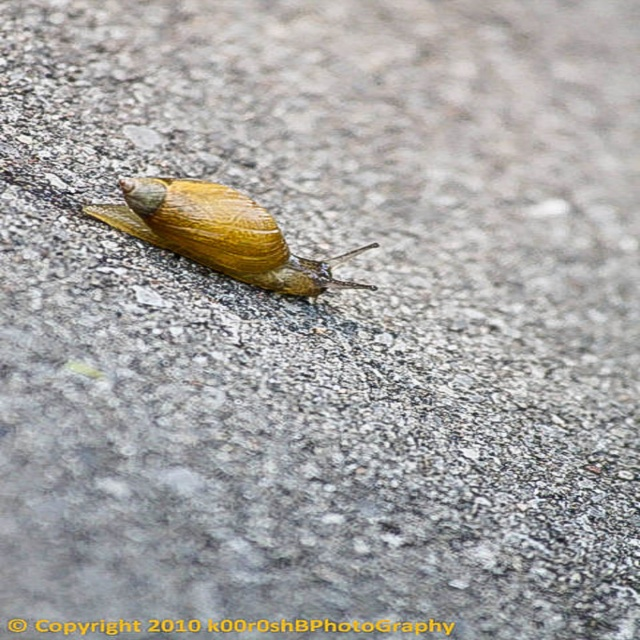Snail: (76, 162, 388, 308)
